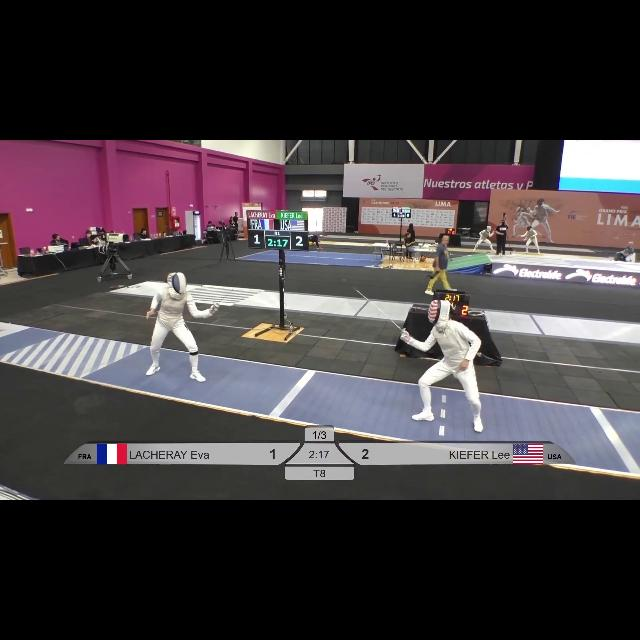blade: (338, 270, 408, 342), (210, 283, 238, 313)
